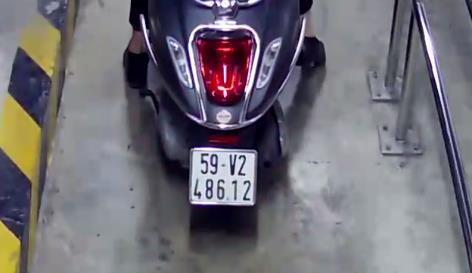lisence: (188, 147, 255, 206)
